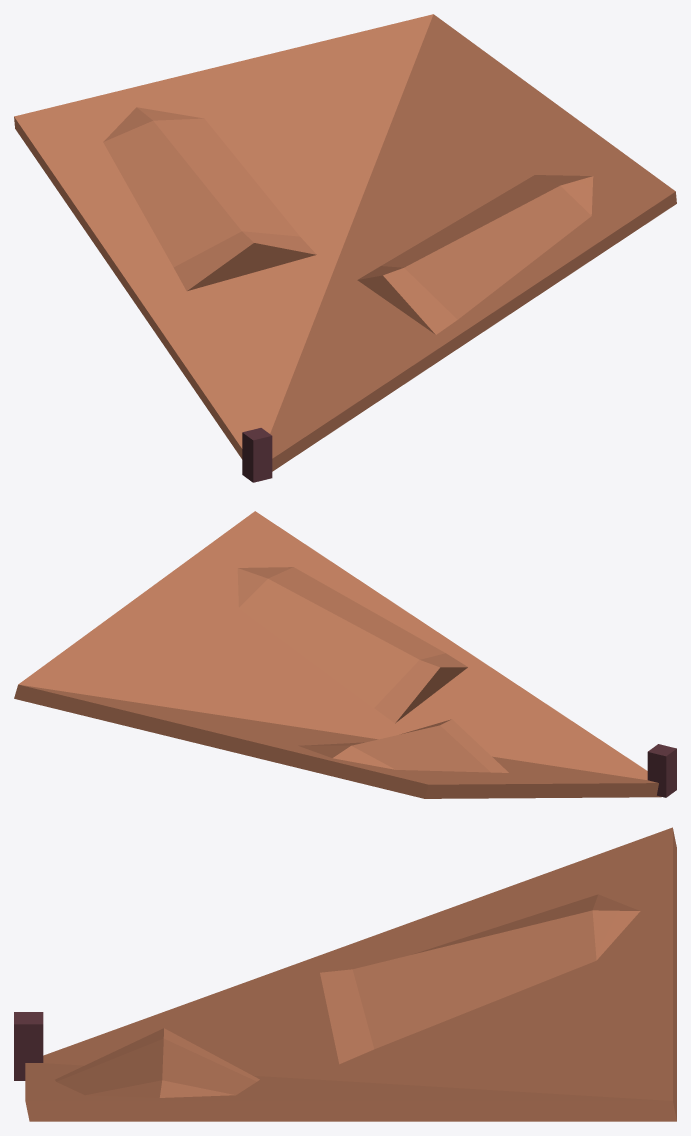
The model's file is empire-roof-in-edge-small-1m-edge-empire.glb.
3 views of the same model, one above another, from view 1: azimuth 30°, elevation 25°; view 2: azimuth 150°, elevation 25°; view 3: azimuth 270°, elevation 25° (orthographic). The views are drawn at different scales.
Parts seen in each view (by area): view 1: SM_Roof_In_Edge_Small_1m_Edge_Empire; view 2: SM_Roof_In_Edge_Small_1m_Edge_Empire; view 3: SM_Roof_In_Edge_Small_1m_Edge_Empire.
Boxes of the visible parts, bbox=[...] form: SM_Roof_In_Edge_Small_1m_Edge_Empire: bbox=[14, 14, 676, 482]; SM_Roof_In_Edge_Small_1m_Edge_Empire: bbox=[14, 511, 676, 798]; SM_Roof_In_Edge_Small_1m_Edge_Empire: bbox=[14, 827, 676, 1121].
Size of the model in its own units: 1.54 by 0.6484 by 1.54.
